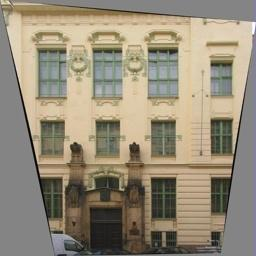building: (14, 0, 253, 245)
